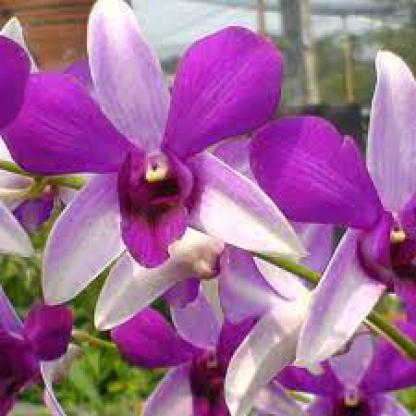ANGGREK: (16, 16, 397, 404)
